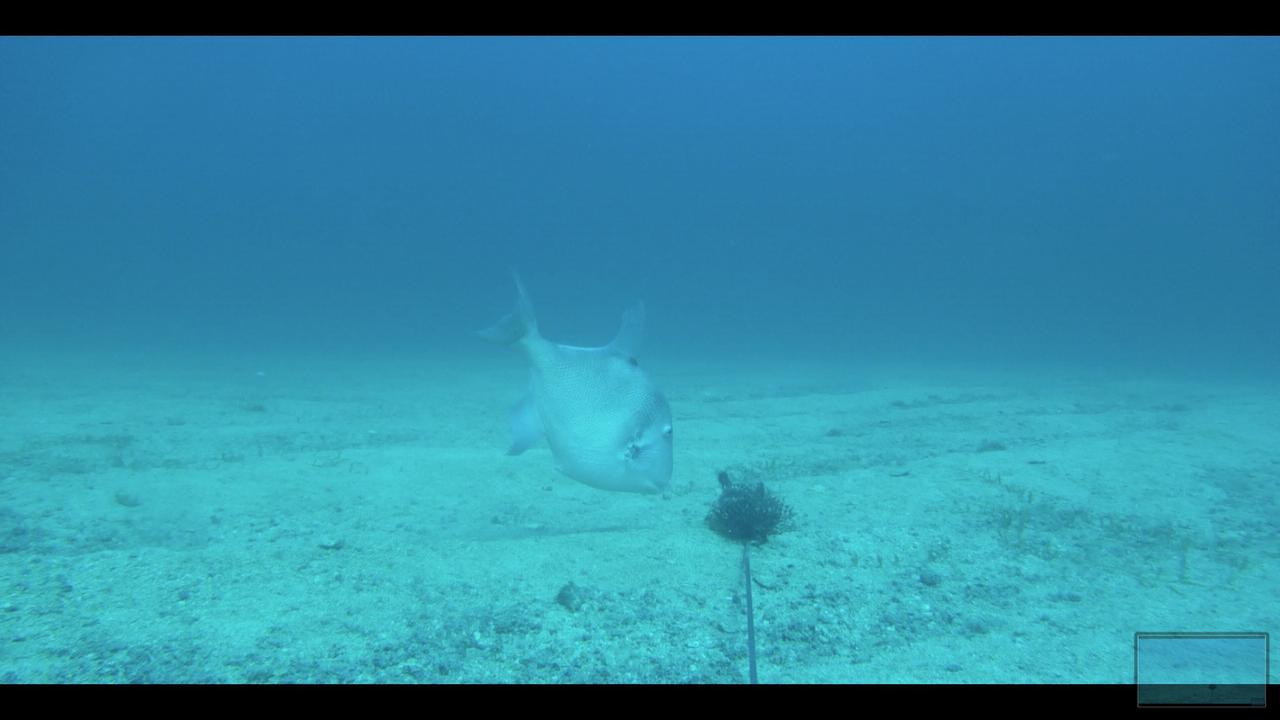balistes: (465, 267, 684, 503)
